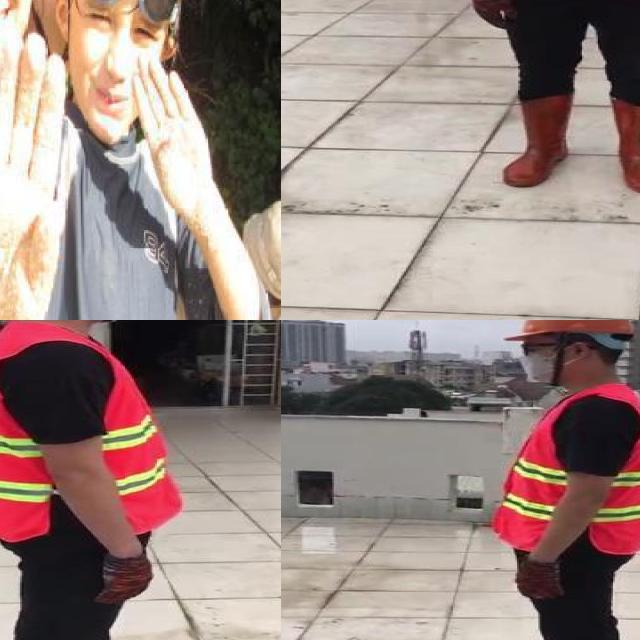boots: (504, 96, 575, 188), (606, 94, 640, 194)
face_mask: (512, 334, 572, 385)
face_nomask: (83, 0, 161, 113)
hand_glove: (93, 554, 153, 604), (510, 561, 561, 603), (468, 0, 518, 31)
hand_noglove: (0, 34, 75, 320), (122, 52, 224, 232)
head_helmet: (444, 0, 640, 196), (496, 320, 638, 343)
person: (0, 0, 249, 320), (0, 320, 200, 640), (461, 320, 640, 640)
vest: (0, 323, 184, 543), (491, 381, 640, 553)
